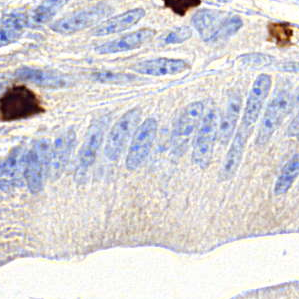Lymphocyte: (1, 83, 46, 121)
